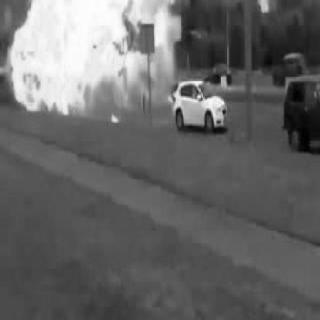Fire: (2, 0, 182, 126)
